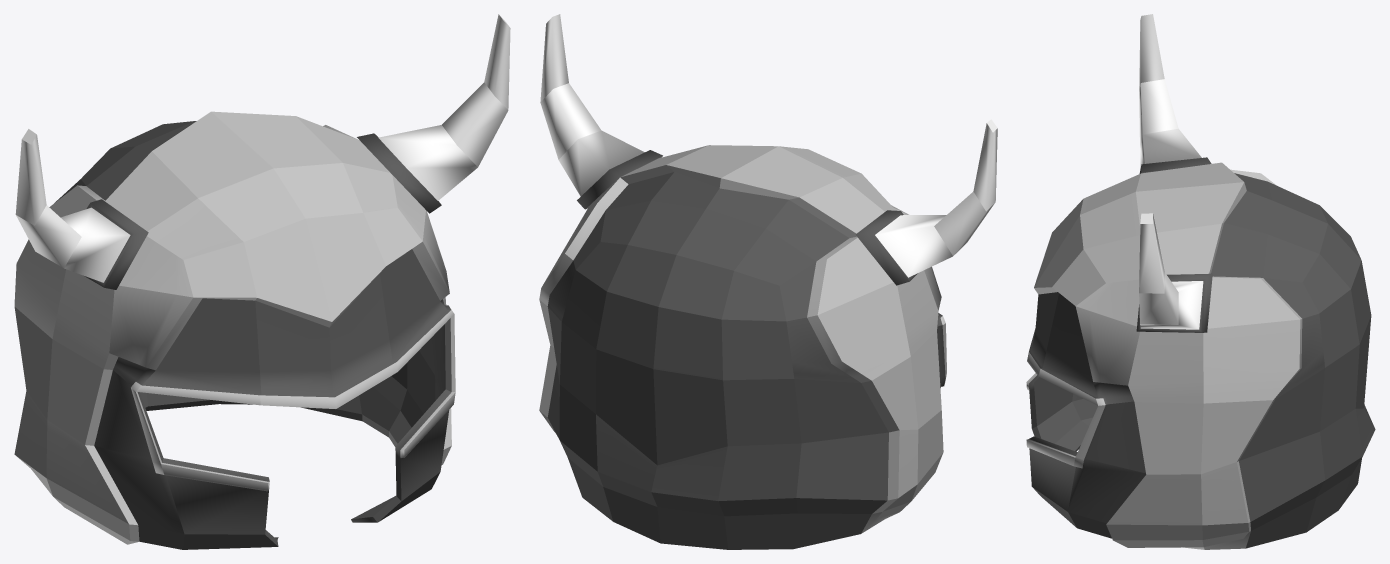
The model's file is iron_helmet_mesh.fbx.
The picture shows the model from 3 angles, left to right: view 1: azimuth 30°, elevation 25°; view 2: azimuth 150°, elevation 25°; view 3: azimuth 270°, elevation 25°; orthographic projection. The views are drawn at different scales.
Visible parts, largest first — view 1: iron_helmet; view 2: iron_helmet; view 3: iron_helmet.
Part boxes in pixels (x1,y1,x2,y2): iron_helmet: (14,14,510,549); iron_helmet: (539,14,997,549); iron_helmet: (1026,14,1375,549).
Bounding box in the file's own units: 109 × 78.19 × 91.56.
